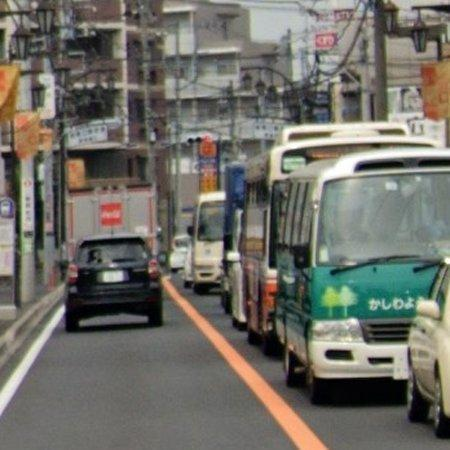buses: (276, 150, 450, 405)
